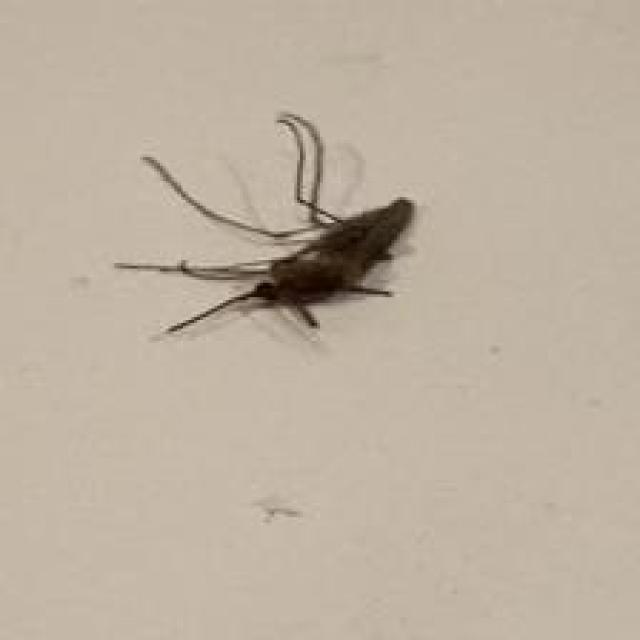Culex: (113, 111, 416, 346)
